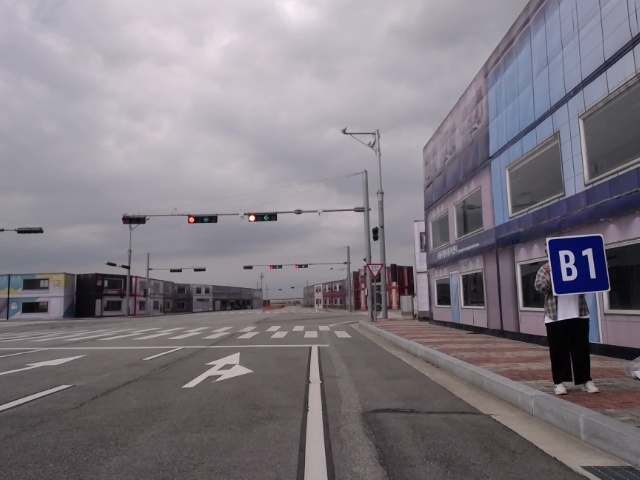delivery_b1: (548, 234, 610, 295)
left_green_4: (248, 213, 277, 222), (188, 215, 218, 223), (295, 264, 308, 269), (269, 265, 282, 269)
